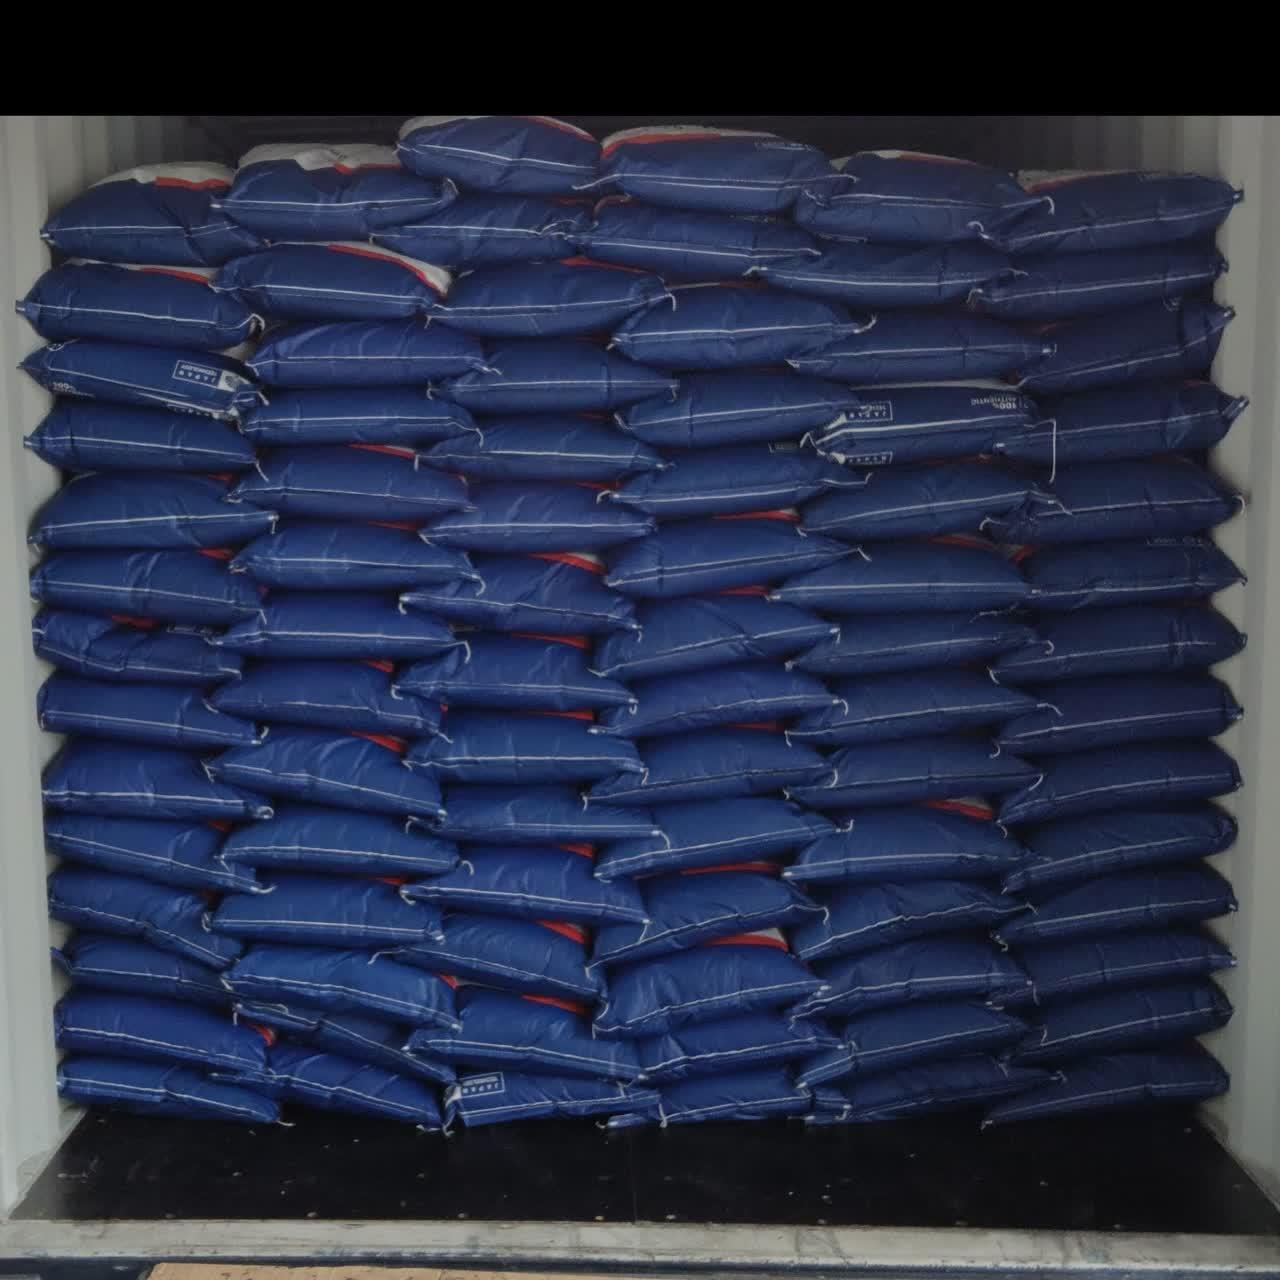sack: (593, 930, 821, 1039), (592, 862, 821, 969), (41, 163, 260, 274), (56, 987, 278, 1096), (18, 263, 279, 353), (594, 587, 838, 682), (217, 144, 456, 239), (797, 151, 1039, 243), (408, 987, 641, 1081), (602, 511, 847, 600), (611, 285, 862, 372), (209, 728, 440, 821), (597, 125, 837, 213), (1002, 803, 1235, 893), (967, 241, 1227, 322), (789, 932, 1027, 1020), (992, 601, 1242, 685), (990, 171, 1241, 254), (401, 844, 648, 928), (381, 914, 606, 1007), (1000, 741, 1239, 828), (799, 463, 1063, 542), (1020, 297, 1230, 394), (784, 801, 1019, 886), (49, 866, 241, 971), (1010, 459, 1240, 546), (1001, 381, 1244, 463), (578, 197, 817, 280), (1001, 862, 1237, 946), (787, 309, 1051, 384), (772, 537, 1029, 614), (799, 1001, 1024, 1089), (787, 669, 1037, 748), (392, 633, 634, 714), (20, 341, 266, 421), (400, 553, 635, 636), (801, 384, 1036, 468), (999, 674, 1239, 755), (222, 946, 457, 1028), (427, 258, 673, 336), (785, 734, 1037, 810), (988, 1042, 1228, 1122), (43, 738, 272, 822), (595, 798, 835, 877), (430, 340, 676, 416), (615, 370, 856, 448), (220, 243, 450, 324), (784, 880, 1013, 961), (30, 474, 277, 549), (592, 663, 835, 738), (617, 442, 862, 516), (587, 729, 824, 805), (200, 874, 441, 949), (233, 1000, 451, 1082), (234, 445, 469, 522), (787, 612, 1036, 683), (1017, 980, 1228, 1064), (211, 661, 440, 738), (45, 815, 266, 894), (806, 1054, 1060, 1123), (30, 550, 261, 625), (39, 673, 259, 751), (26, 399, 256, 474), (404, 712, 641, 784), (762, 241, 1015, 308), (420, 483, 655, 554), (246, 319, 483, 389), (370, 193, 590, 268), (222, 806, 458, 876), (1016, 928, 1231, 1005), (210, 592, 454, 659), (232, 525, 477, 591), (33, 608, 244, 685), (396, 117, 601, 195), (424, 415, 660, 481), (1022, 539, 1241, 610), (268, 1043, 447, 1128), (407, 787, 658, 844), (638, 1012, 842, 1082), (60, 1056, 279, 1121), (52, 930, 237, 1006), (240, 389, 474, 445), (605, 1068, 811, 1131), (445, 1071, 661, 1126)
